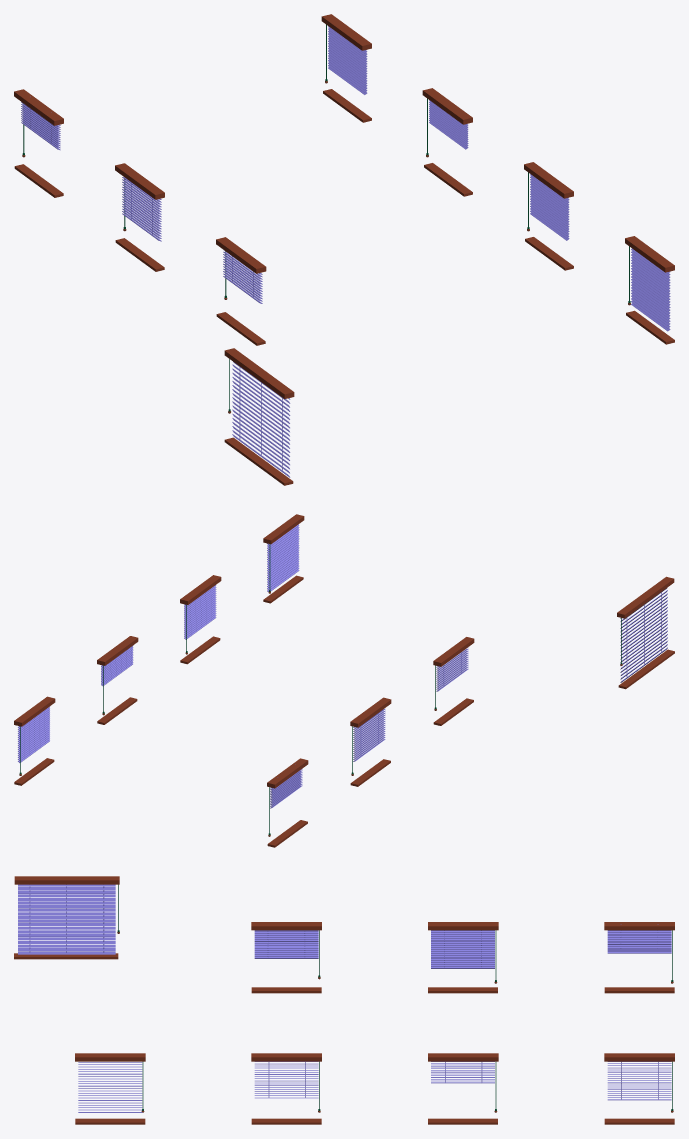
Rendered from window shelder.fbx.
3 renders of one model, top to bottom at view 1: azimuth 30°, elevation 25°; view 2: azimuth 150°, elevation 25°; view 3: azimuth 270°, elevation 25°, orthographic. The views are drawn at different scales.
Visible parts, largest first — view 1: Cube.002, Cube.024, Cylinder.008, Cube.018, Cube.021, Cube.008, Cube.012, Cube.015, Cube.020, Cylinder.013, Cube.003, Cube.006 (+4 smaller); view 2: Cube.002, Cube.024, Cylinder.008, Cube.018, Cube.021, Cube.008, Cylinder.013, Cube.012, Cube.015, Cube.020, Cube.006, Cube.003 (+4 smaller); view 3: Cube.002, Cylinder.008, Cube.008, Cube.024, Cube.005, Cube.018, Cube.021, Cube.020, Cube.012, Cube.015, Cylinder.013, Cube.014 (+4 smaller).
Part boxes in pixels (x1,y1,x2,y2): Cube.002: (232,362,290,477); Cube.024: (631,248,670,331); Cylinder.008: (14,89,63,197); Cube.018: (328,26,367,94); Cube.021: (530,174,569,240); Cube.008: (122,177,161,241); Cube.012: (422,88,472,196); Cube.015: (321,14,371,122); Cube.020: (524,162,573,270); Cylinder.013: (625,236,674,344); Cube.003: (216,237,266,345); Cube.006: (115,163,164,271); Cube.002: (620,588,667,682); Cube.024: (267,524,299,591); Cylinder.008: (267,758,308,847); Cube.018: (18,706,49,762); Cube.021: (184,585,216,639); Cube.008: (353,708,385,761); Cylinder.013: (263,514,304,603); Cube.012: (97,636,138,724); Cube.015: (14,696,55,785); Cube.020: (180,575,221,664); Cube.006: (350,697,391,786); Cube.003: (433,637,474,725); Cube.002: (18,884,115,954); Cylinder.008: (604,922,674,993); Cube.008: (431,930,494,968); Cube.024: (78,1062,142,1112); Cube.005: (254,930,318,958); Cube.018: (607,1061,671,1100); Cube.021: (254,1061,318,1098); Cube.020: (251,1053,321,1124); Cube.012: (428,1053,498,1124); Cube.015: (604,1053,674,1124); Cylinder.013: (75,1053,145,1124); Cube.014: (431,1061,494,1083).
Bounding box in the file's own units: 973 × 199 × 1498.
